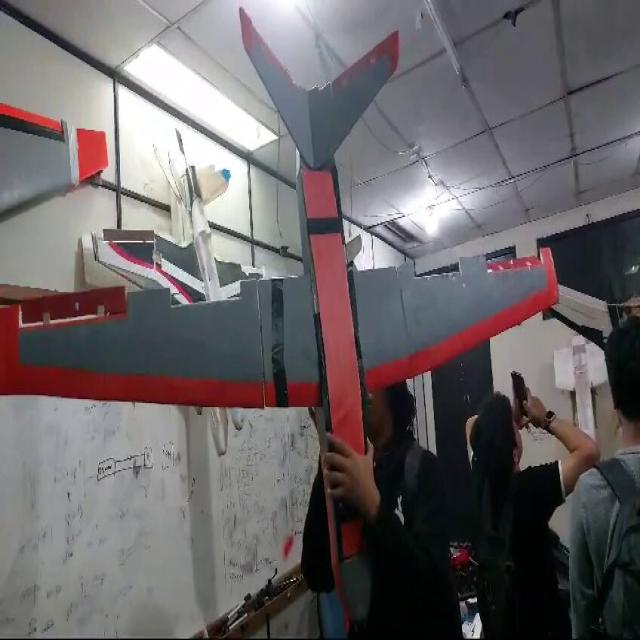plane: (11, 5, 566, 631)
